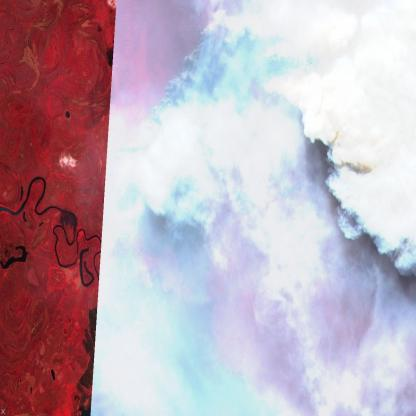fire: (101, 14, 330, 246)
